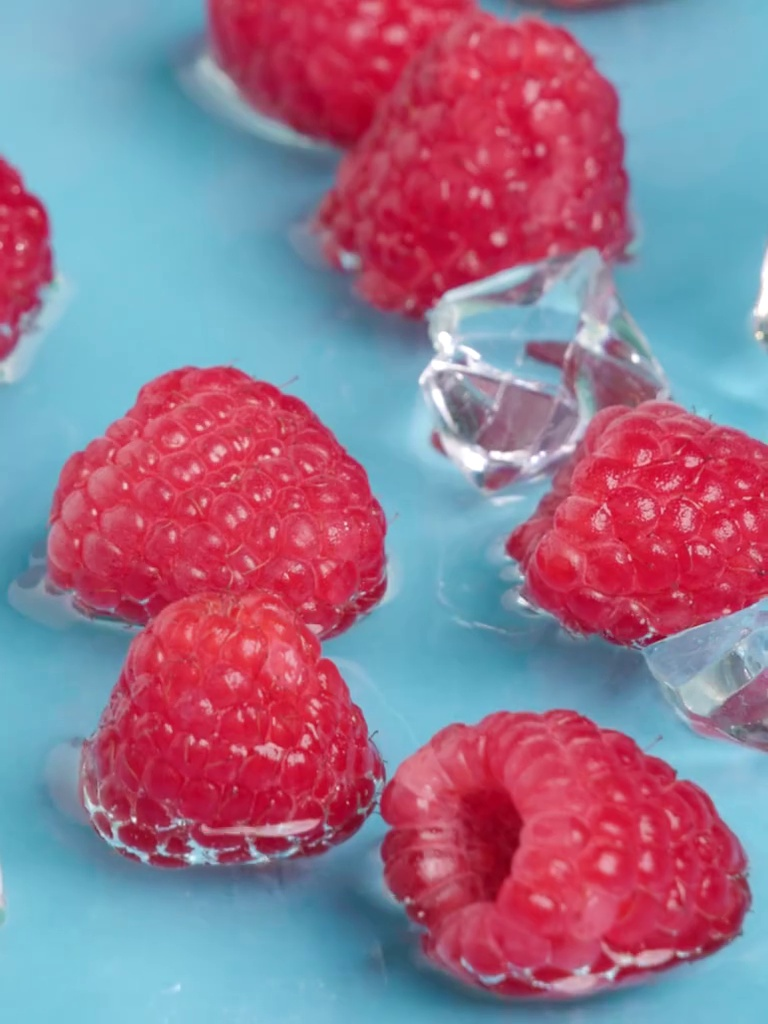Strawberry: (364, 707, 752, 1003), (318, 24, 633, 326), (43, 363, 392, 625), (77, 592, 381, 873), (503, 405, 768, 650)
